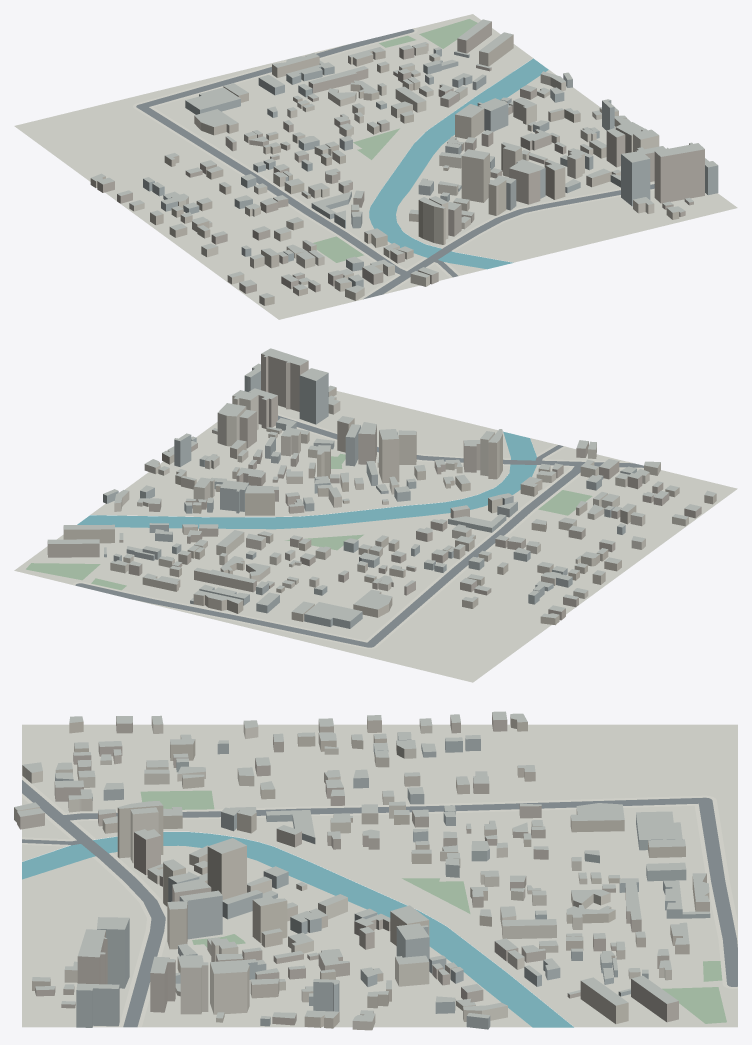
3 views of the same model, one above another, from view 1: azimuth 30°, elevation 25°; view 2: azimuth 150°, elevation 25°; view 3: azimuth 270°, elevation 25° (orthographic). The views are drawn at different scales.
Parts seen in each view (by area): view 1: city; view 2: city; view 3: city.
Boxes of the visible parts, box(x1,y1,x2,y2) form: city: box(14, 14, 737, 319); city: box(14, 348, 737, 682); city: box(14, 711, 737, 1030).
Bounding box in the file's own units: 508 × 48.68 × 506.
